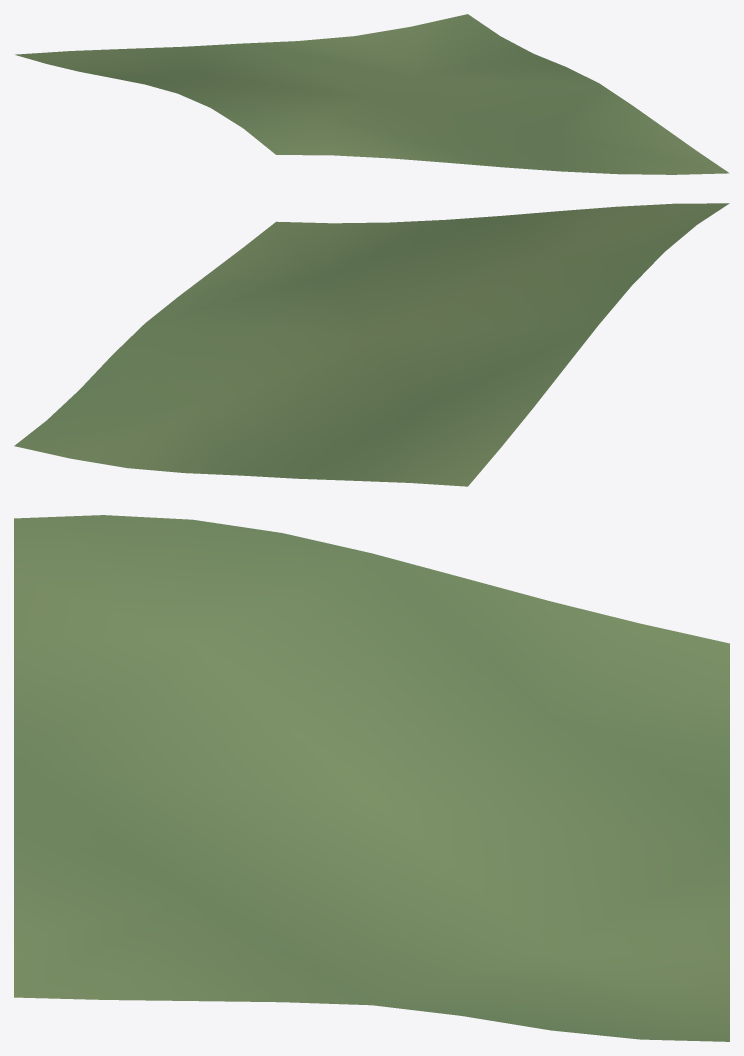
File: Terrain-2-5-4.glb
3 renders of one model, top to bottom at view 1: azimuth 30°, elevation 25°; view 2: azimuth 150°, elevation 25°; view 3: azimuth 270°, elevation 25°, orthographic. The views are drawn at different scales.
Visible parts, largest first — view 1: Terrain-2-5-4; view 2: Terrain-2-5-4; view 3: Terrain-2-5-4.
Part boxes in pixels (box(x1,y1,x2,y2)): Terrain-2-5-4: box(15, 14, 729, 174); Terrain-2-5-4: box(14, 203, 729, 486); Terrain-2-5-4: box(14, 515, 729, 1041).
Size of the model in its own units: 6 by 2.07 by 6.
